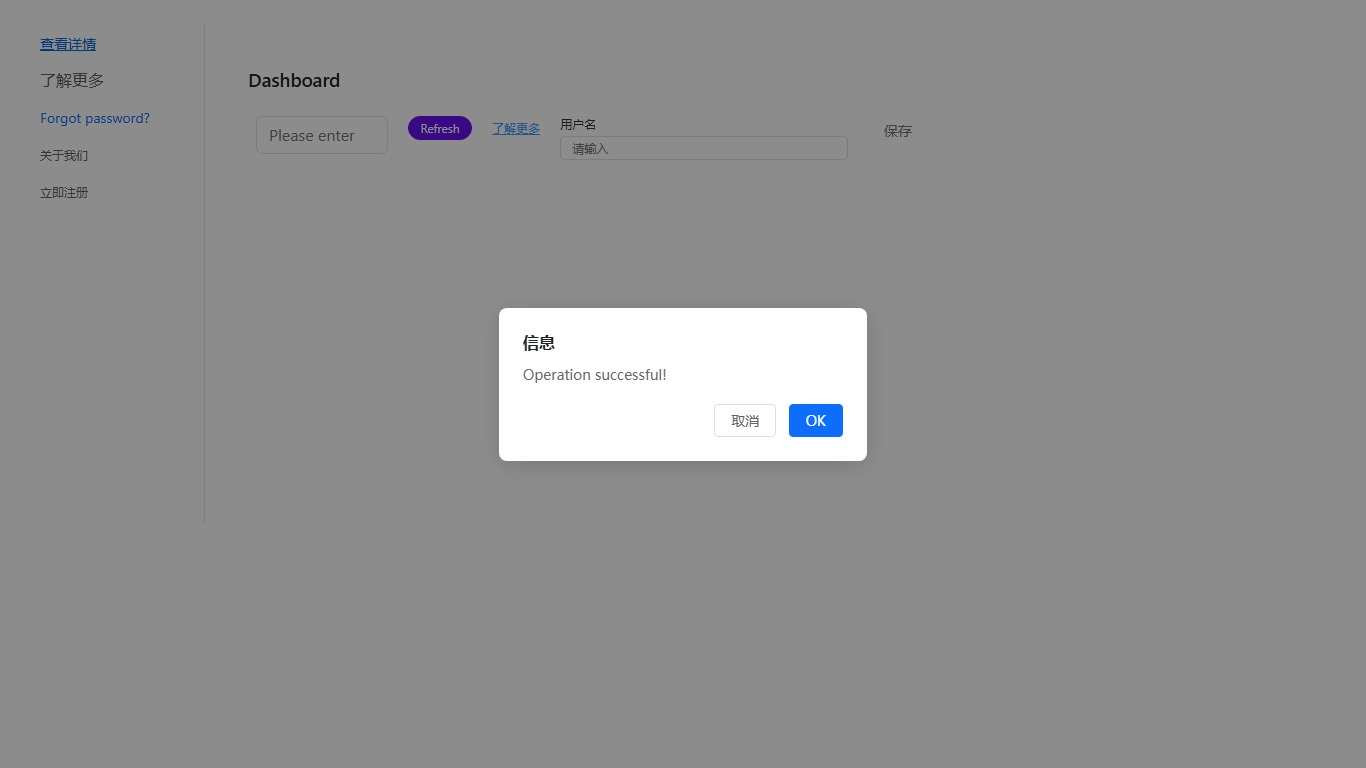button: (714, 403, 776, 437), (789, 403, 843, 437), (869, 116, 927, 146), (408, 116, 472, 140)
input: (560, 136, 848, 160), (256, 116, 388, 154)
link: (40, 108, 150, 127), (40, 69, 104, 90), (40, 34, 96, 53), (40, 147, 88, 163), (40, 184, 88, 200), (492, 120, 540, 136)
modal: (0, 0, 1366, 768)
